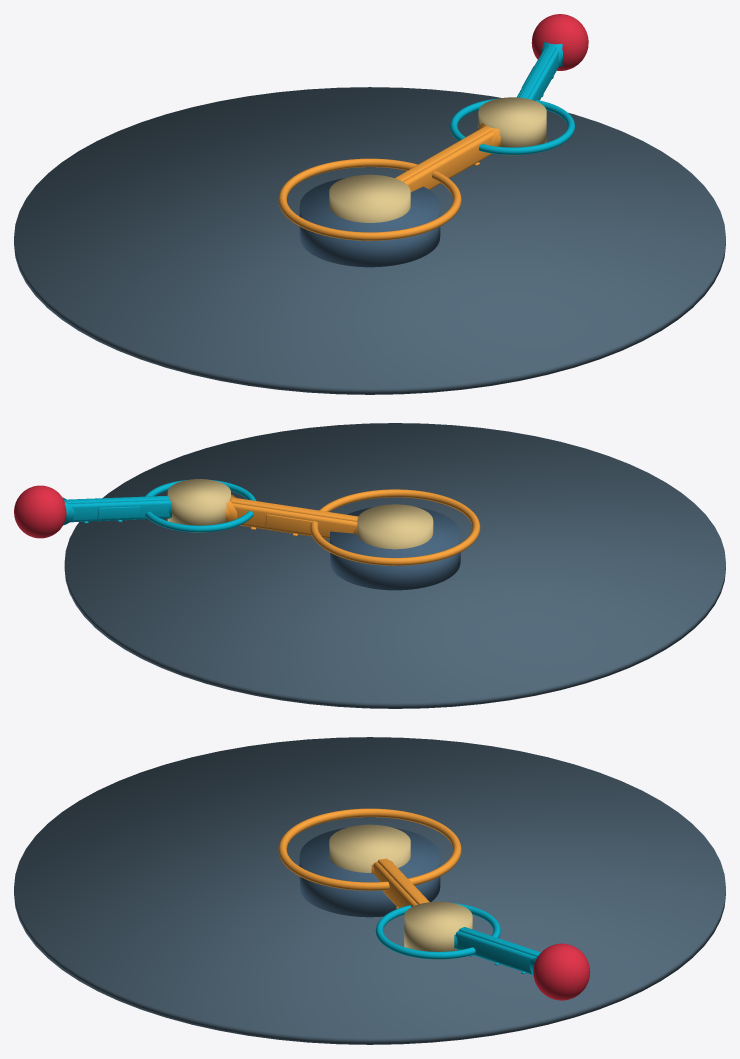
The model's file is robot-arm.glb.
3 renders of one model, top to bottom at view 1: azimuth 30°, elevation 25°; view 2: azimuth 150°, elevation 25°; view 3: azimuth 270°, elevation 25°, orthographic. The views are drawn at different scales.
Visible parts, largest first — view 1: MA_Workspace, MA_Base, MA_ShoulderAngle, MA_ShoulderJoint, MA_ElbowJoint, MA_FirstLink, MA_Tip, MA_ElbowAngle, MA_SecondLink; view 2: MA_Workspace, MA_Base, MA_FirstLink, MA_ShoulderAngle, MA_ShoulderJoint, MA_ElbowJoint, MA_SecondLink, MA_Tip, MA_ElbowAngle; view 3: MA_Workspace, MA_Base, MA_ShoulderAngle, MA_ShoulderJoint, MA_ElbowJoint, MA_Tip, MA_SecondLink, MA_ElbowAngle, MA_FirstLink.
Boxes of the visible parts, bbox=[...] form: MA_Workspace: bbox=[14, 87, 725, 394]; MA_Base: bbox=[299, 178, 440, 267]; MA_ShoulderAngle: bbox=[278, 158, 461, 240]; MA_ShoulderJoint: bbox=[329, 174, 410, 222]; MA_ElbowJoint: bbox=[478, 97, 546, 155]; MA_FirstLink: bbox=[395, 123, 500, 191]; MA_Tip: bbox=[531, 14, 588, 70]; MA_ElbowAngle: bbox=[450, 98, 575, 154]; MA_SecondLink: bbox=[517, 41, 563, 100]; MA_Workspace: bbox=[64, 423, 725, 708]; MA_Base: bbox=[330, 507, 460, 590]; MA_FirstLink: bbox=[226, 494, 358, 539]; MA_ShoulderAngle: bbox=[310, 489, 480, 565]; MA_ShoulderJoint: bbox=[357, 504, 433, 549]; MA_ElbowJoint: bbox=[167, 479, 230, 532]; MA_SecondLink: bbox=[62, 495, 171, 525]; MA_Tip: bbox=[14, 485, 66, 538]; MA_ElbowAngle: bbox=[145, 480, 256, 532]; MA_Workspace: bbox=[14, 737, 725, 1044]; MA_Base: bbox=[299, 828, 440, 917]; MA_ShoulderAngle: bbox=[278, 808, 461, 890]; MA_ShoulderJoint: bbox=[329, 824, 410, 872]; MA_ElbowJoint: bbox=[404, 901, 472, 959]; MA_Tip: bbox=[533, 943, 590, 1000]; MA_SecondLink: bbox=[454, 927, 540, 975]; MA_ElbowAngle: bbox=[375, 902, 500, 959]; MA_FirstLink: bbox=[371, 858, 429, 908].
Bounding box in the file's own units: 7.53 × 1.02 × 7.5.
